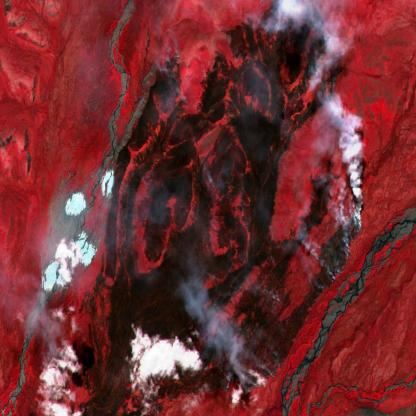fire: (42, 0, 371, 416)
